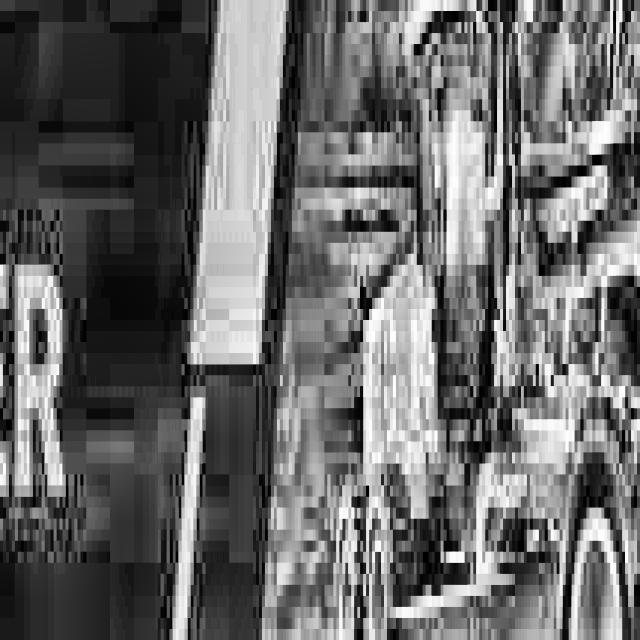buldozerpayloadergrader: (321, 0, 640, 640)
